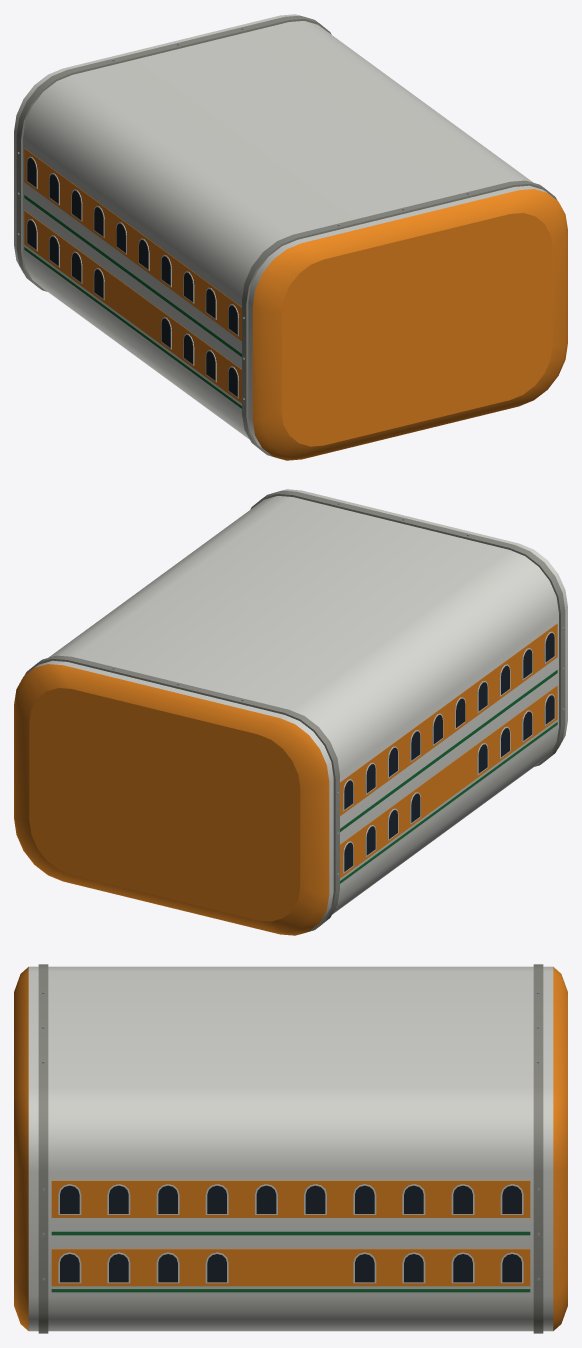
The model's file is bunk500_hull.obj.
3 renders of one model, top to bottom at view 1: azimuth 30°, elevation 25°; view 2: azimuth 150°, elevation 25°; view 3: azimuth 270°, elevation 25°, orthographic. The views are drawn at different scales.
Parts seen in each view (by area): view 1: bunk500_hull; view 2: bunk500_hull; view 3: bunk500_hull.
Boxes of the visible parts, x1,y1,x2,y2 form: bunk500_hull: (14, 14, 567, 460); bunk500_hull: (14, 489, 567, 935); bunk500_hull: (14, 964, 567, 1333).
Bounding box in the file's own units: 12.42 × 8.22 × 16.9.
